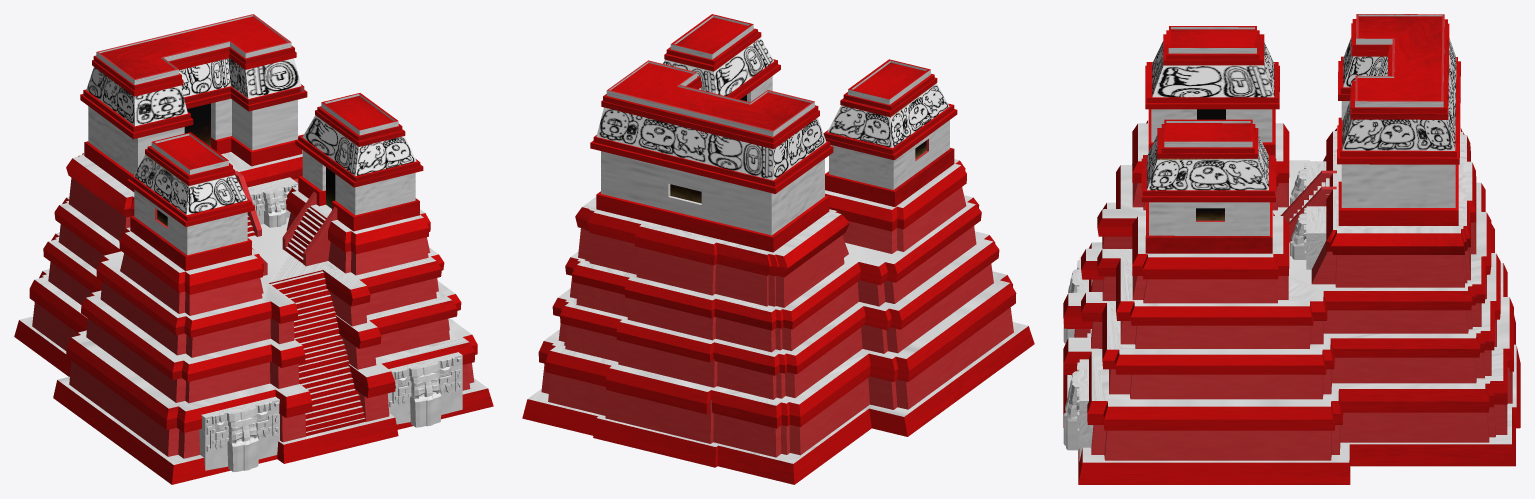
Rendered from fortress_2.dae.
3 renders of one model, left to right at view 1: azimuth 30°, elevation 25°; view 2: azimuth 150°, elevation 25°; view 3: azimuth 270°, elevation 25°, orthographic. The views are drawn at different scales.
Parts seen in each view (by area): view 1: fortress_2; view 2: fortress_2; view 3: fortress_2.
Part boxes in pixels (bbox=[...]): fortress_2: bbox=[14, 14, 493, 484]; fortress_2: bbox=[522, 14, 1034, 484]; fortress_2: bbox=[1063, 14, 1520, 484].
Bounding box in the file's own units: 34.91 × 37.55 × 30.62.
